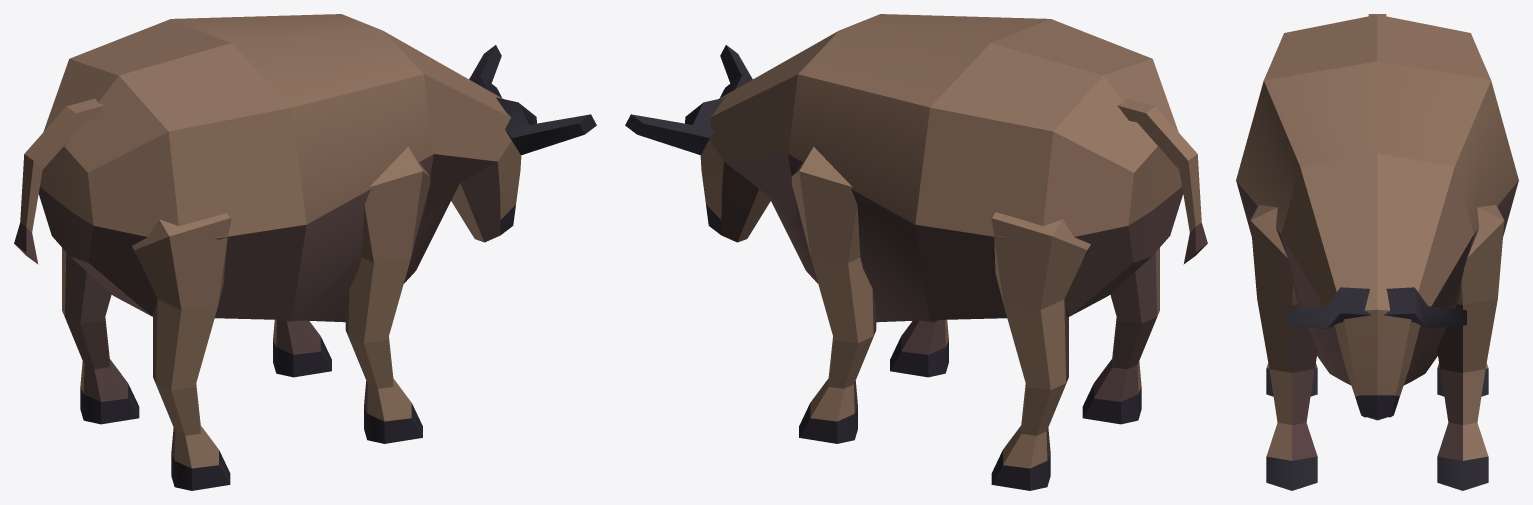
File: Animal_Beffalo_001.fbx
3 views of the same model, side by side, from view 1: azimuth 30°, elevation 25°; view 2: azimuth 150°, elevation 25°; view 3: azimuth 270°, elevation 25° (orthographic). The views are drawn at different scales.
Visible parts, largest first — view 1: Animal_Beffalo_001; view 2: Animal_Beffalo_001; view 3: Animal_Beffalo_001.
Part boxes in pixels (x1=…): Animal_Beffalo_001: x1=14, y1=14, x2=596, y2=490; Animal_Beffalo_001: x1=625, y1=14, x2=1207, y2=490; Animal_Beffalo_001: x1=1236, y1=14, x2=1518, y2=490.
Size of the model in its own units: 238 by 166 by 117.
